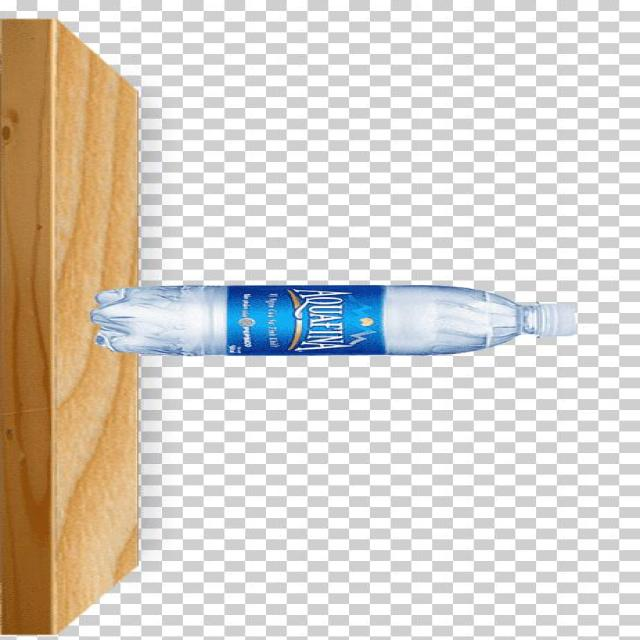plastic: (90, 285, 574, 355)
